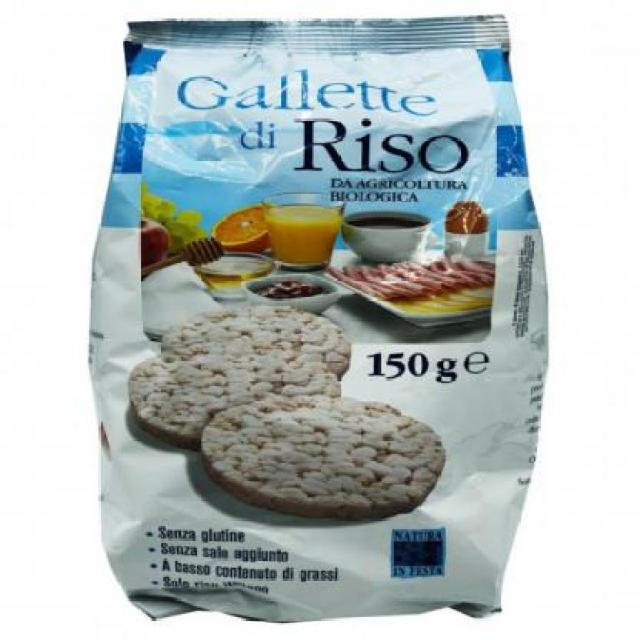Gallette di riso: (80, 20, 538, 626)
